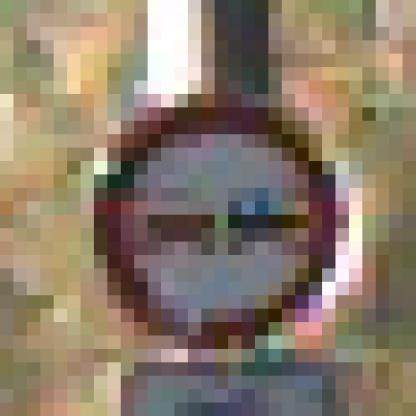No Overtaking: (81, 81, 350, 350)
